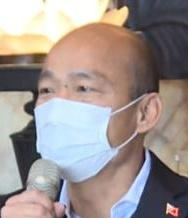OK: (34, 59, 124, 180)
